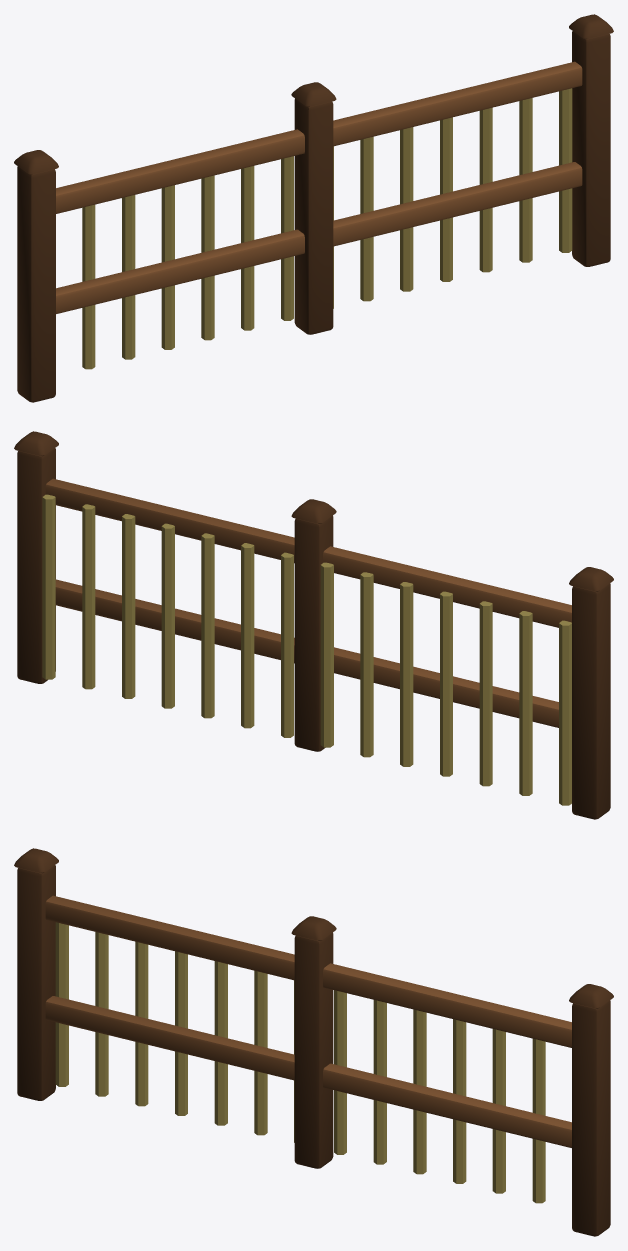
File: fence.glb
The picture shows the model from 3 angles, top to bottom: view 1: azimuth 30°, elevation 25°; view 2: azimuth 150°, elevation 25°; view 3: azimuth 330°, elevation 25°; orthographic projection.
Parts seen in each view (by area): view 1: fence; view 2: fence; view 3: fence.
Part boxes in pixels (left/top/right/bottom): fence: left=14, top=14, right=613, bottom=402; fence: left=14, top=431, right=613, bottom=819; fence: left=14, top=848, right=613, bottom=1236.
Bounding box in the file's own units: 3.06 × 1.21 × 0.1706.
